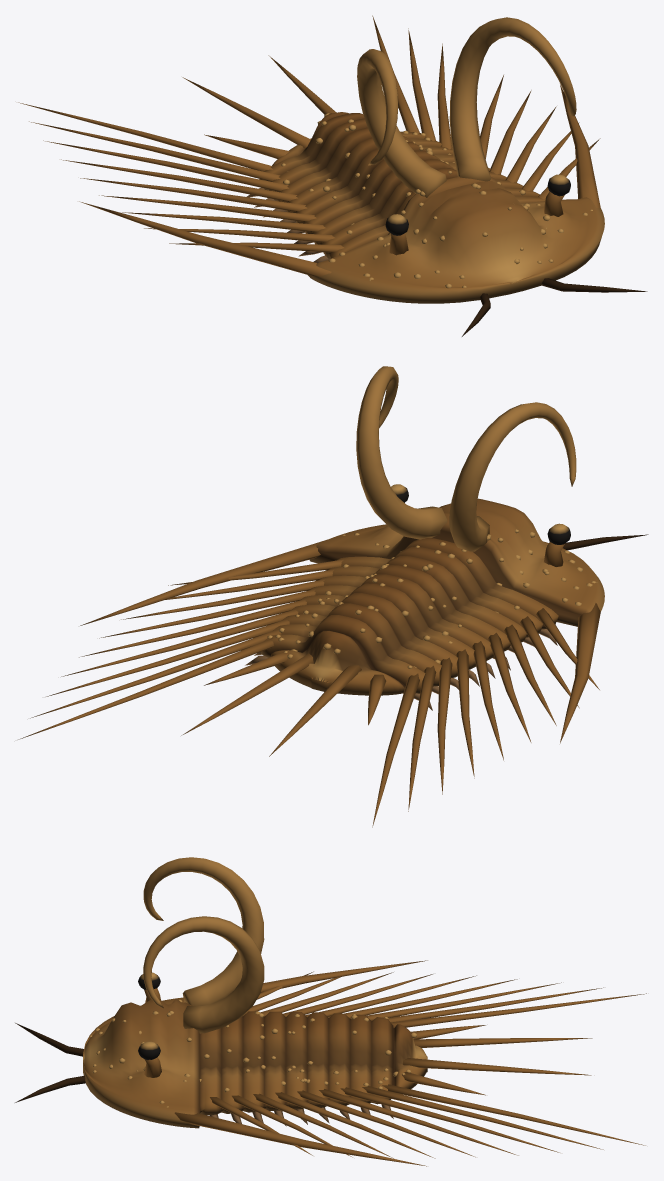
The model's file is Dicranurus.fbx.
3 renders of one model, top to bottom at view 1: azimuth 30°, elevation 25°; view 2: azimuth 150°, elevation 25°; view 3: azimuth 270°, elevation 25°, orthographic. The views are drawn at different scales.
Visible parts, largest first — view 1: Dicranurus; view 2: Dicranurus; view 3: Dicranurus.
Boxes of the visible parts, x1,y1,x2,y2 form: Dicranurus: (18,15,647,336); Dicranurus: (18,366,648,827); Dicranurus: (15,857,646,1166).
Size of the model in its own units: 1.28 by 0.5508 by 1.66.
